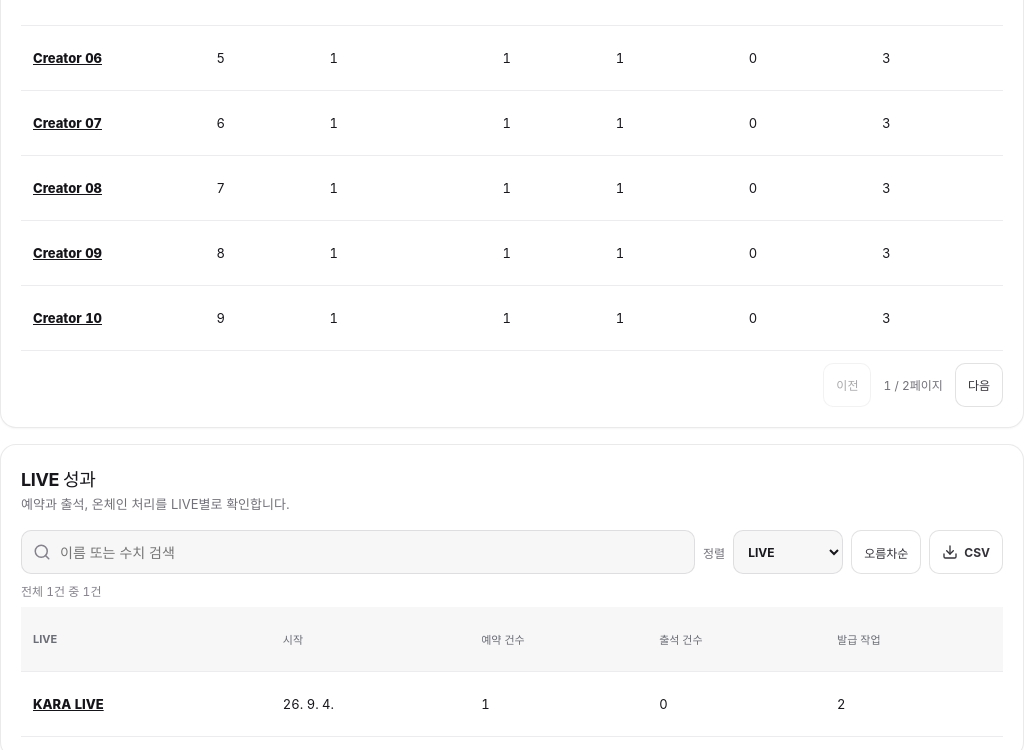
PlatformDashboardContent › sorts and paginates creator rows
(page scrolled)
expect the link "Creator 11" is not shown: met
Click the button "다음" at (979, 384), box [955,362,1003,406]
(page scrolled)
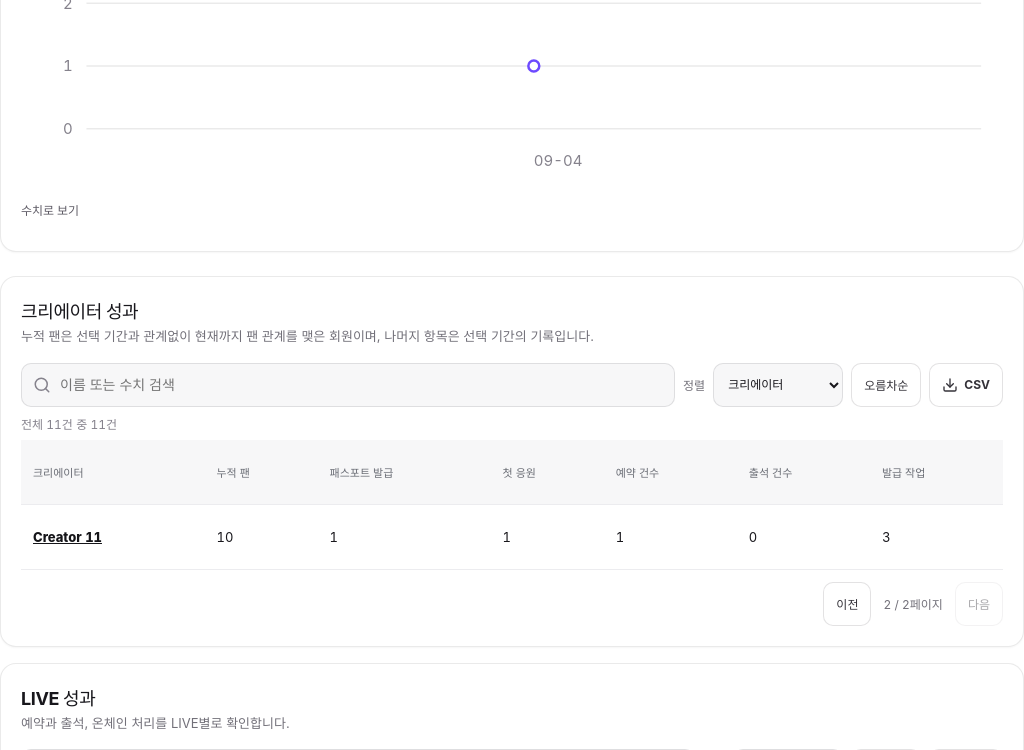
expect the link "Creator 11" is shown: met, box [33,528,102,544]
Select "누적 팬" in the 1st dropdown labelled "정렬" at (778, 384), box [713,362,843,406]
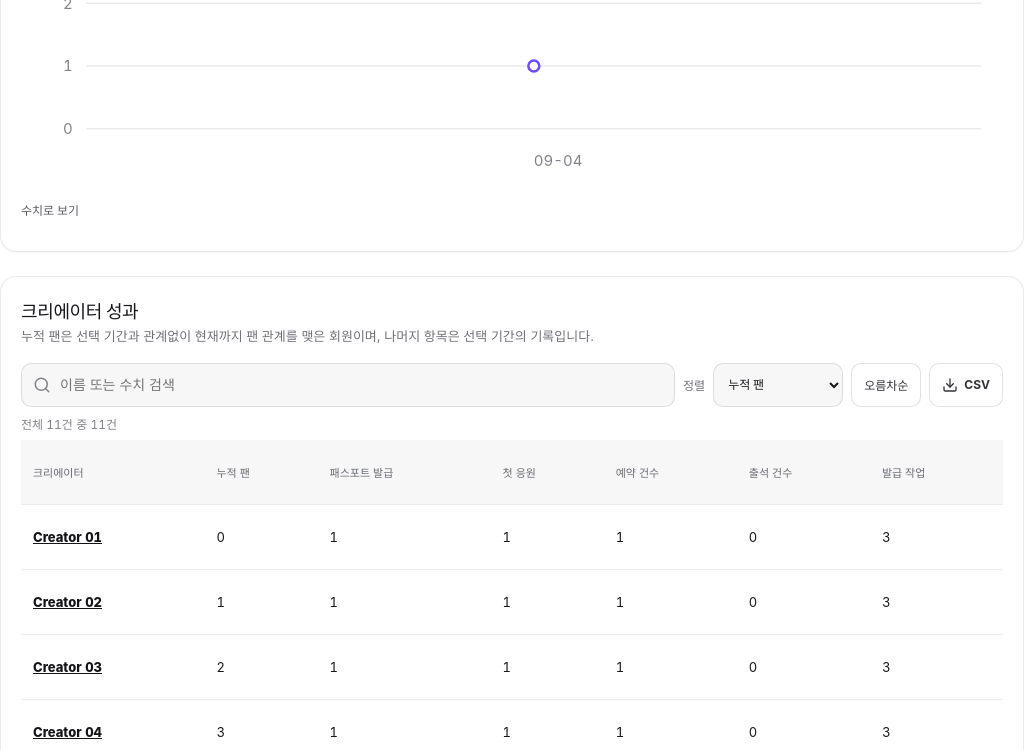
Click the button "오름차순" at (886, 384), box [851,362,921,406]
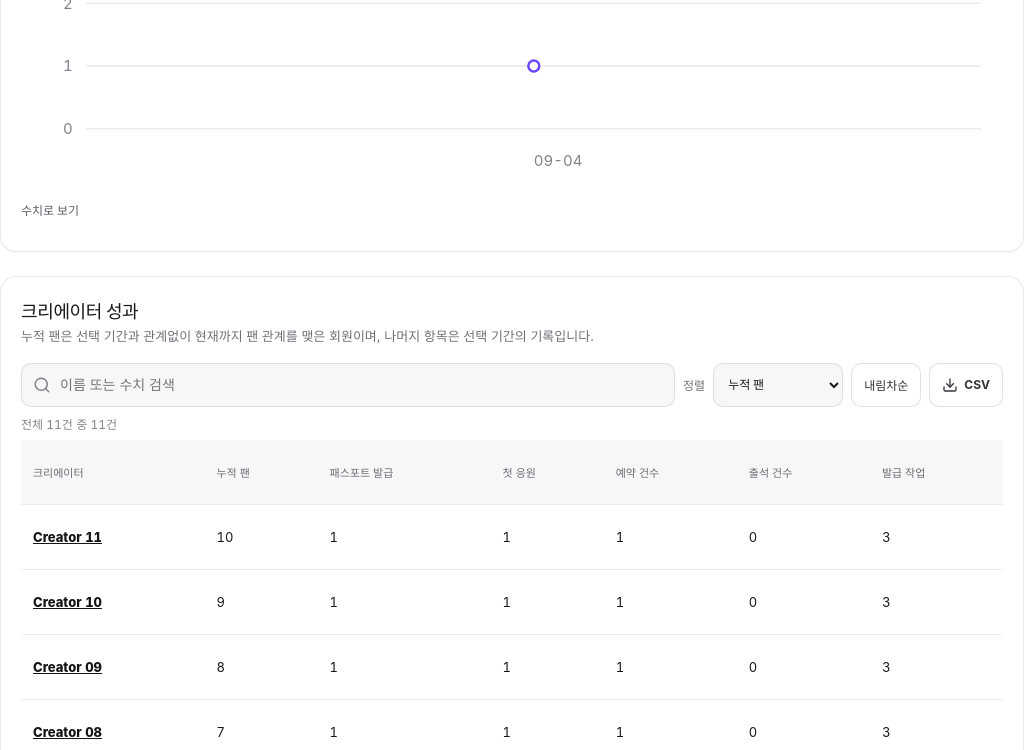
expect the link "Creator 11" is shown: met, box [33,528,102,544]
